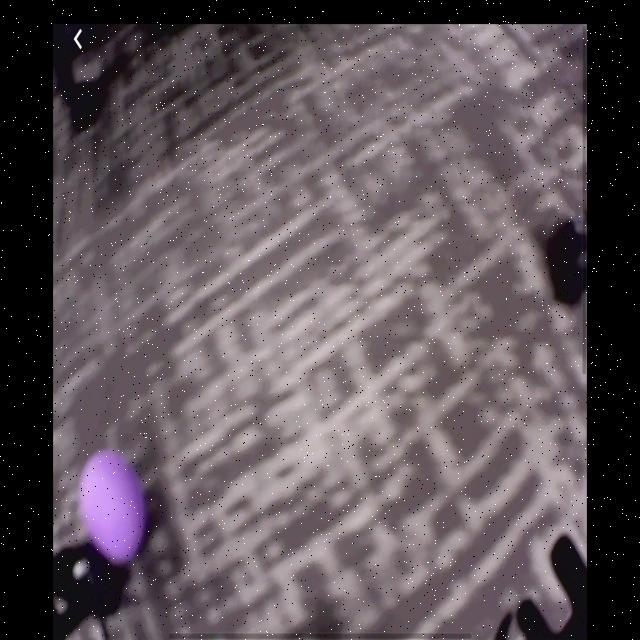ball: (81, 451, 147, 563)
